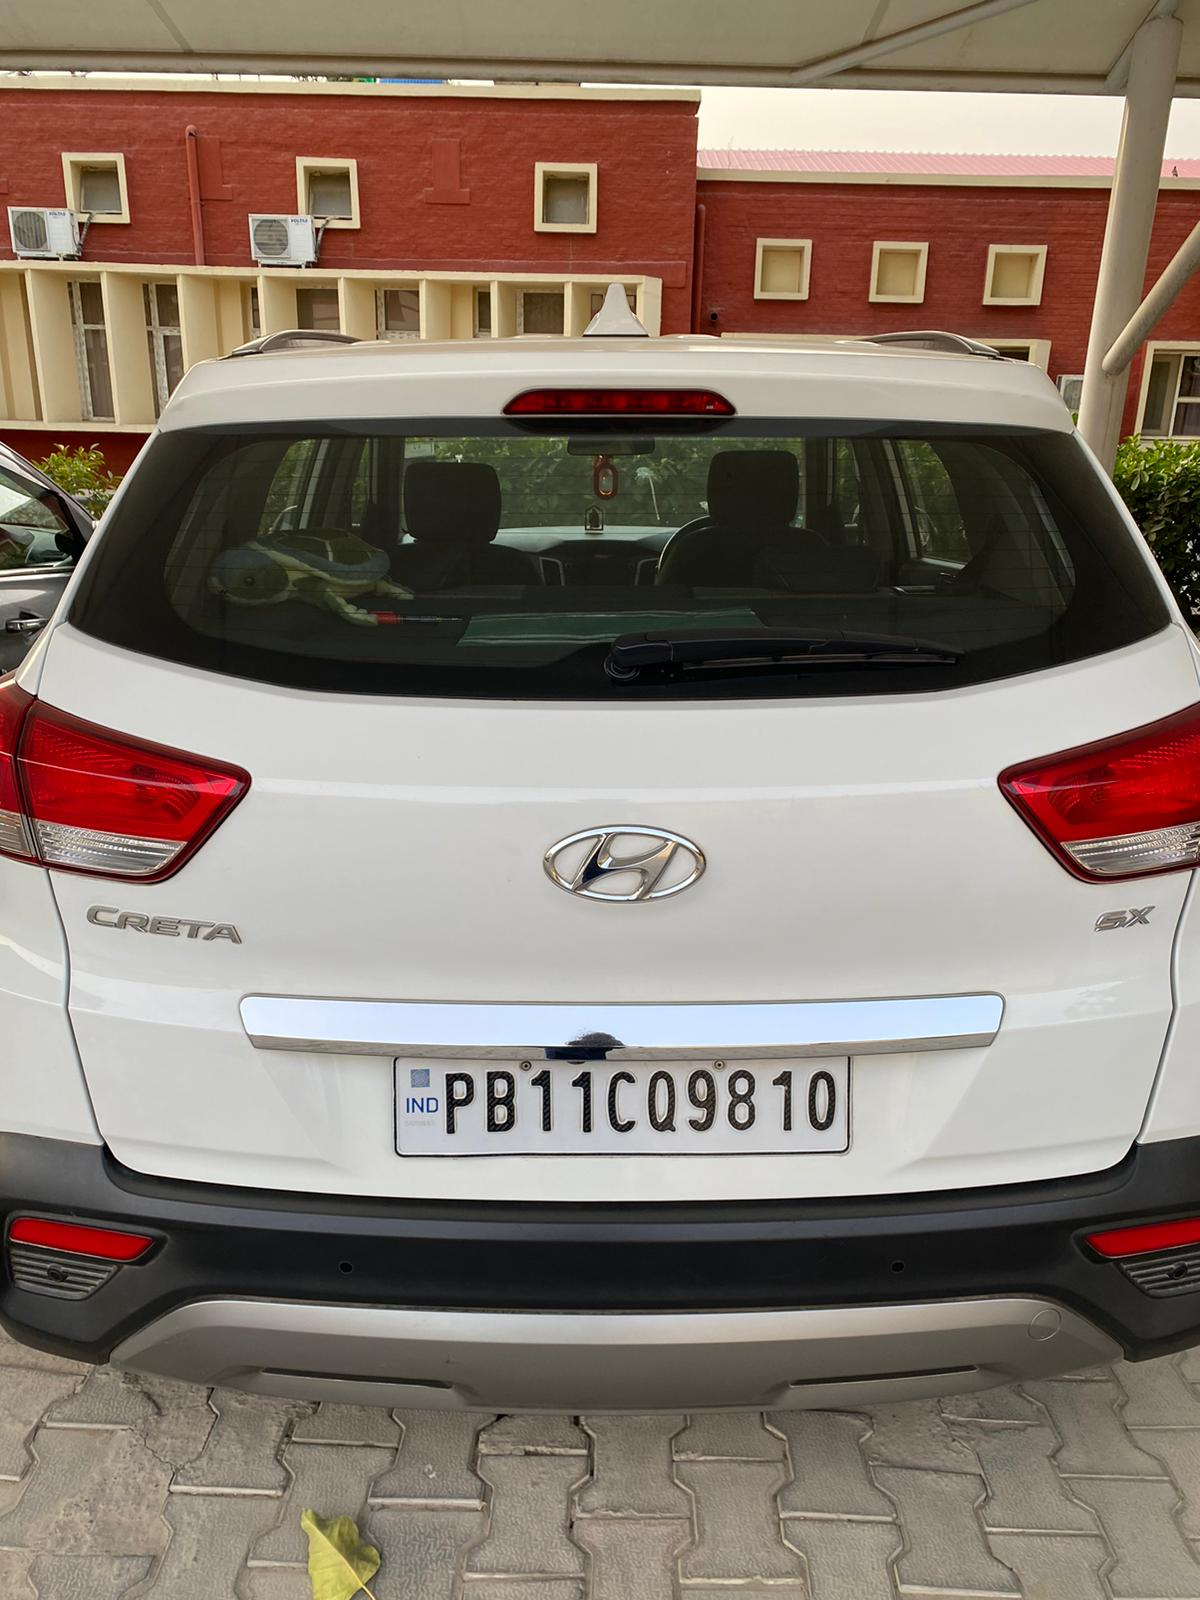license plate: (395, 1057, 848, 1155)
